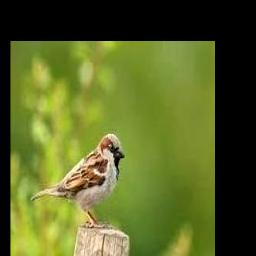Sparrow: (31, 133, 125, 227)
